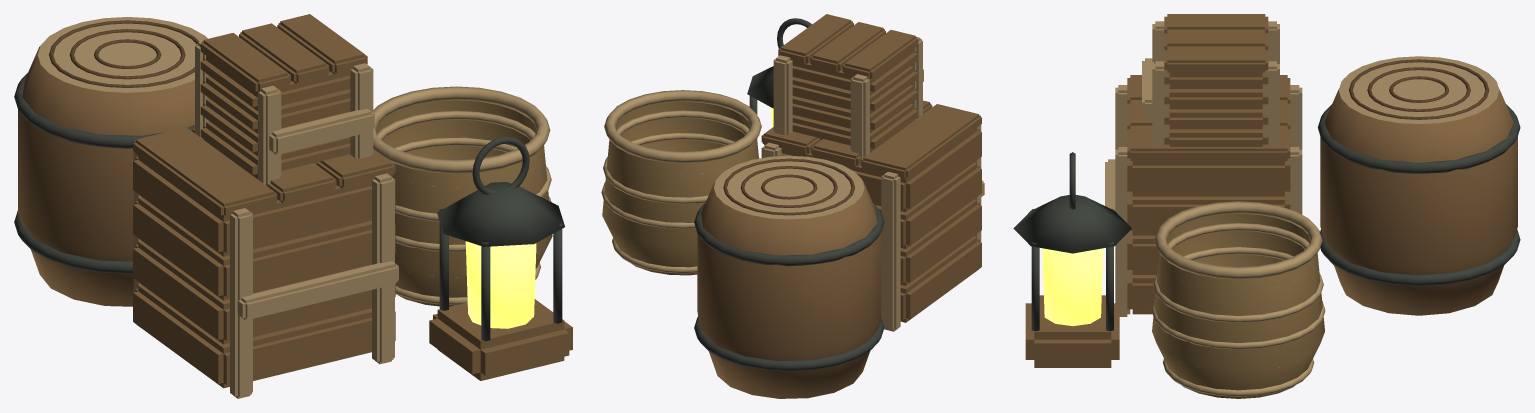
Rendered from SM_DF_SupplyCache_1.fbx.
3 views of the same model, side by side, from view 1: azimuth 30°, elevation 25°; view 2: azimuth 150°, elevation 25°; view 3: azimuth 270°, elevation 25° (orthographic). The views are drawn at different scales.
Visible parts, largest first — view 1: SM_DF_SupplyCache_1; view 2: SM_DF_SupplyCache_1; view 3: SM_DF_SupplyCache_1.
Boxes of the visible parts, x1,y1,x2,y2 form: SM_DF_SupplyCache_1: (14,14,572,398); SM_DF_SupplyCache_1: (601,14,984,398); SM_DF_SupplyCache_1: (1013,14,1520,398).
Size of the model in its own units: 171 by 205 by 118.
